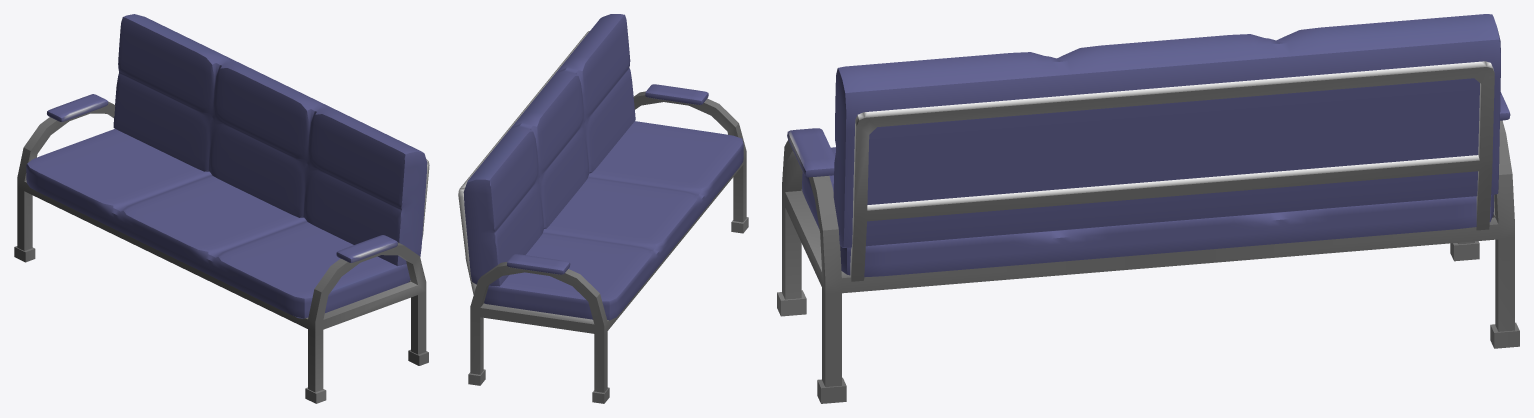
File: SM_Blue_Bench.003.fbx
The picture shows the model from 3 angles, left to right: view 1: azimuth 30°, elevation 25°; view 2: azimuth 150°, elevation 25°; view 3: azimuth 270°, elevation 25°; orthographic projection. The views are drawn at different scales.
Visible parts, largest first — view 1: Blue_Bench.003; view 2: Blue_Bench.003; view 3: Blue_Bench.003.
Part boxes in pixels (box(x1,y1,x2,y2)): Blue_Bench.003: box(14, 14, 429, 403); Blue_Bench.003: box(458, 14, 748, 403); Blue_Bench.003: box(777, 14, 1519, 403).
Bounding box in the file's own units: 117 × 109 × 227.
